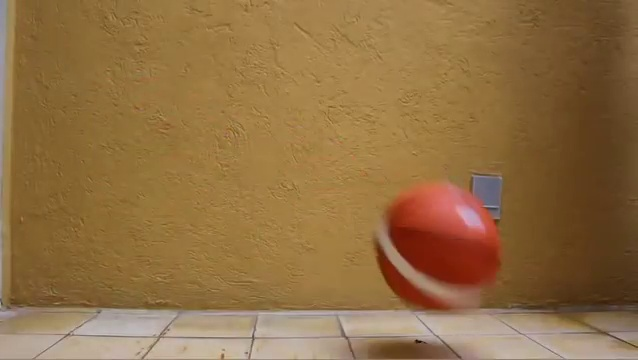ball: (375, 180, 503, 311)
